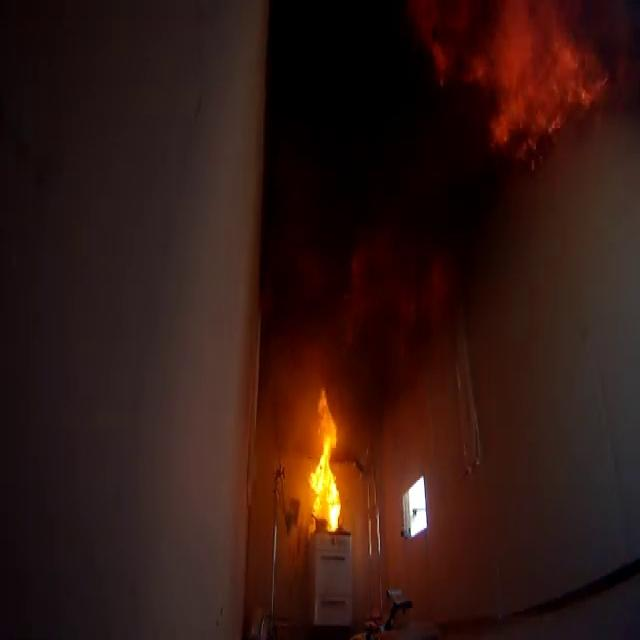fire: (426, 9, 628, 159), (306, 356, 364, 553)
